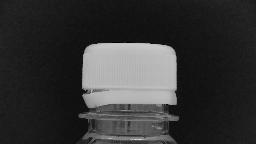Broken Ring: (78, 82, 128, 101)
Loose Cap: (76, 75, 182, 125)
